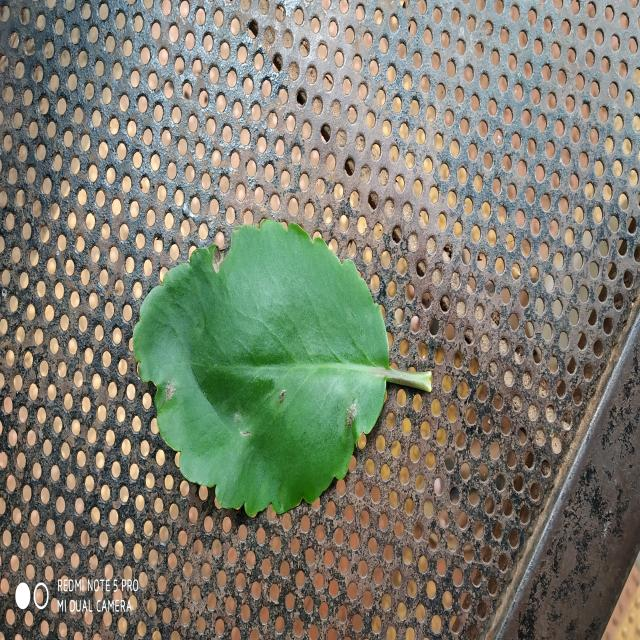defectedspinach: (134, 271, 200, 480)
spinach: (132, 220, 414, 516)
